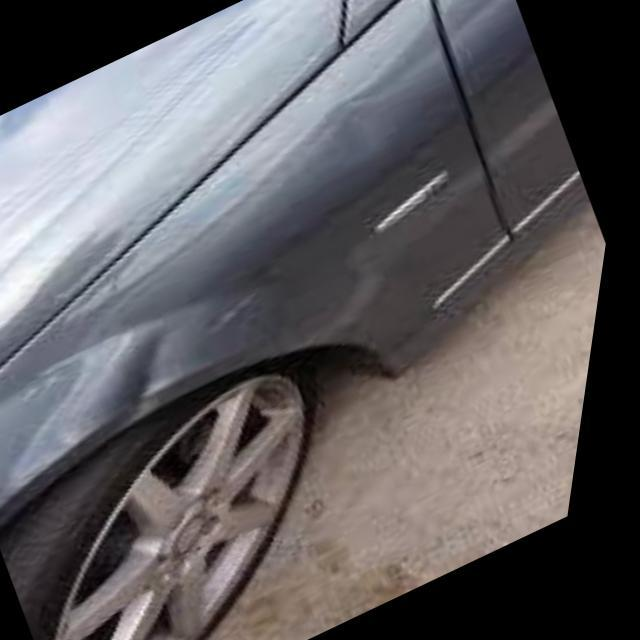dent: (0, 72, 410, 529)
